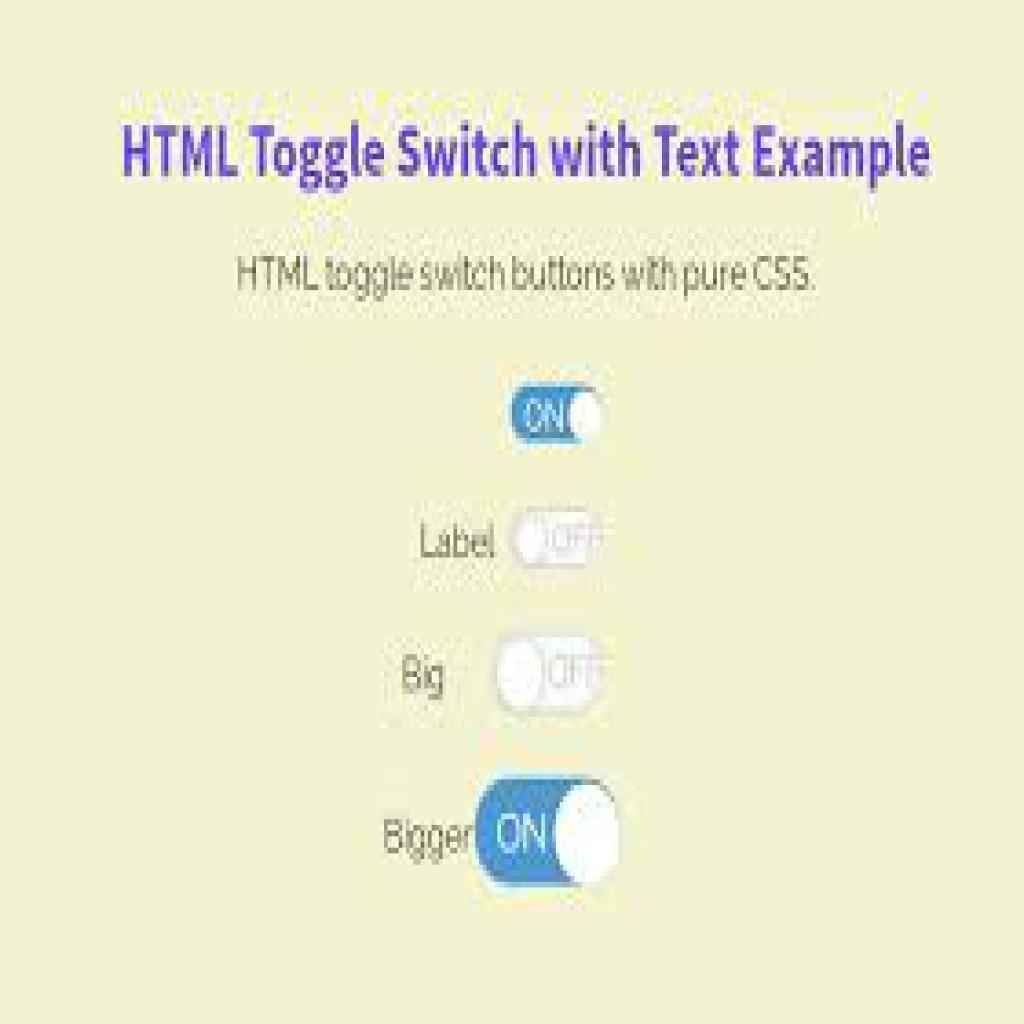switch: (472, 774, 623, 892), (494, 629, 611, 722), (499, 498, 622, 583), (507, 371, 610, 459)
